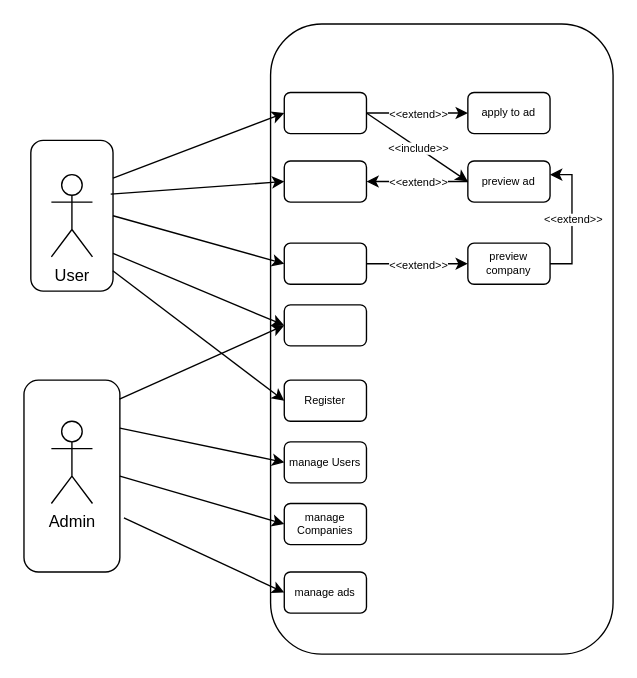
Some shapes in this 637 by 678 pixel diagram are drawn without their labels. Each missing label, with the box of its shape:
browse ads: (283, 160, 366, 202)
Filter Ads: (283, 91, 366, 134)
login: (283, 303, 366, 346)
View companies: (283, 242, 366, 284)
